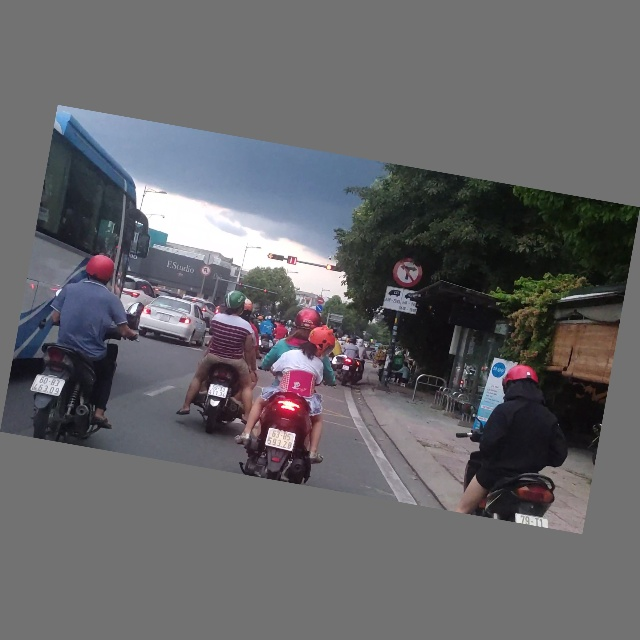P.102: (316, 297, 325, 306)
P.124a*: (199, 264, 213, 278)
P.137: (390, 255, 426, 291)
R.302a: (315, 305, 323, 313)
